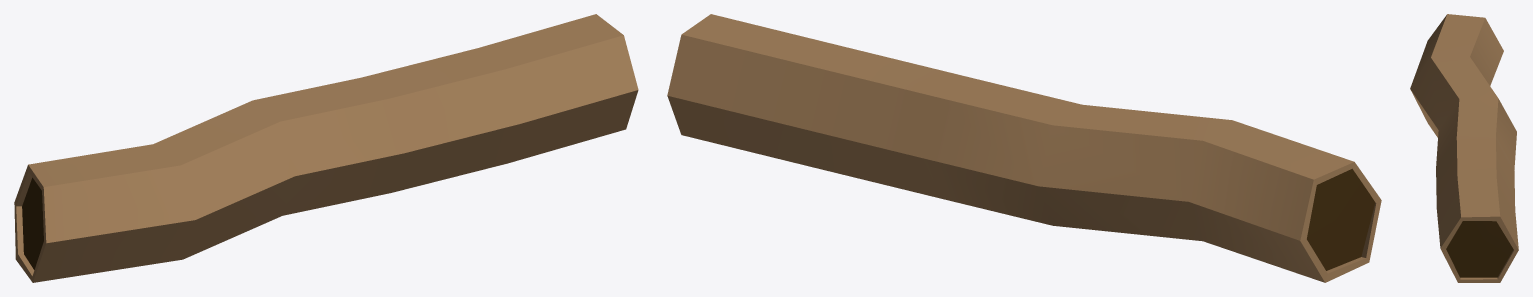
The model's file is Log 2.fbx.
3 renders of one model, left to right at view 1: azimuth 30°, elevation 25°; view 2: azimuth 150°, elevation 25°; view 3: azimuth 270°, elevation 25°, orthographic. The views are drawn at different scales.
Visible parts, largest first — view 1: pCylinder3; view 2: pCylinder3; view 3: pCylinder3.
Boxes of the visible parts, x1,y1,x2,y2 form: pCylinder3: (14,14,638,282); pCylinder3: (667,14,1381,282); pCylinder3: (1410,14,1518,282).
Size of the model in its own units: 142 by 21.79 by 31.3.
